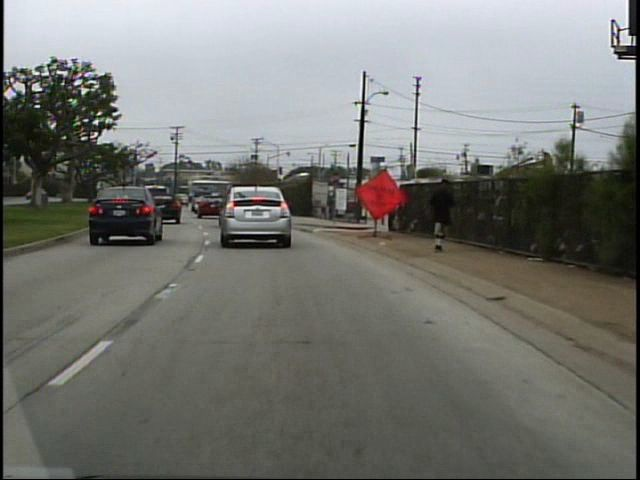person: (423, 174, 457, 259)
